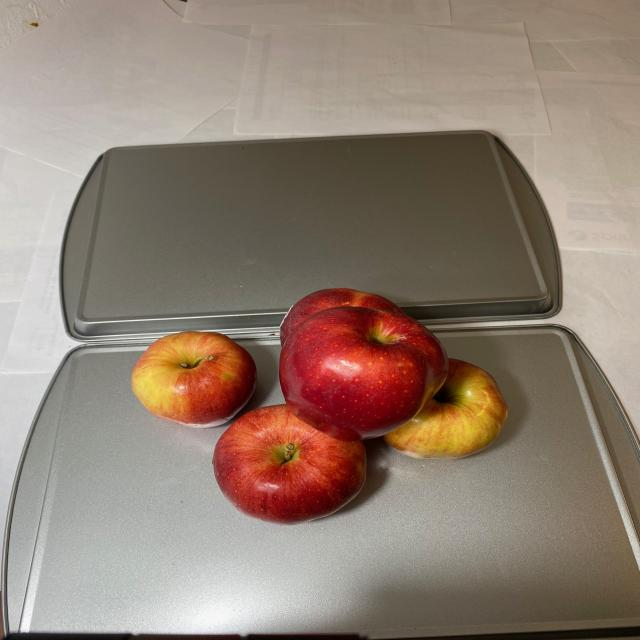Apple: (121, 287, 512, 528)
